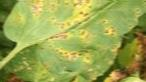Tomato Septoria leaf spot: (4, 0, 146, 74)
